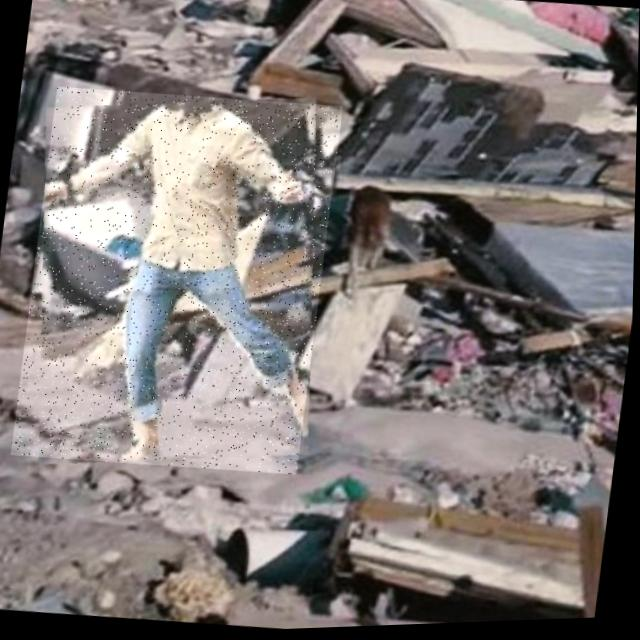Person in Rubble: (12, 78, 343, 485)
